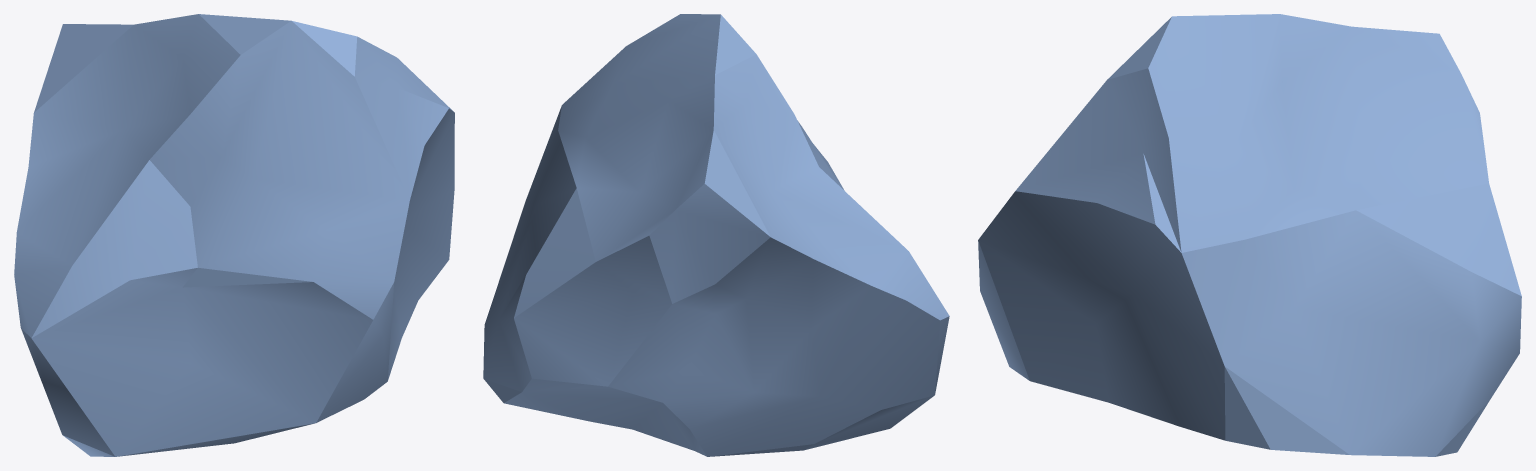
The model's file is songvrRockSmallE.FBX.
3 renders of one model, left to right at view 1: azimuth 30°, elevation 25°; view 2: azimuth 150°, elevation 25°; view 3: azimuth 270°, elevation 25°, orthographic. The views are drawn at different scales.
Visible parts, largest first — view 1: songvrRockSmallE; view 2: songvrRockSmallE; view 3: songvrRockSmallE.
Boxes of the visible parts, x1,y1,x2,y2 form: songvrRockSmallE: (14,14,454,456); songvrRockSmallE: (483,14,949,456); songvrRockSmallE: (978,14,1521,456).
Size of the model in its own units: 1.71 by 1.45 by 1.67.
